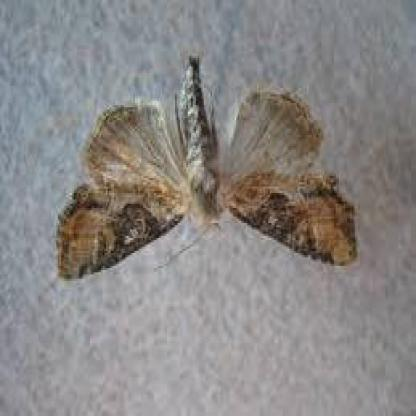Leaf Webber: (54, 55, 359, 293)
